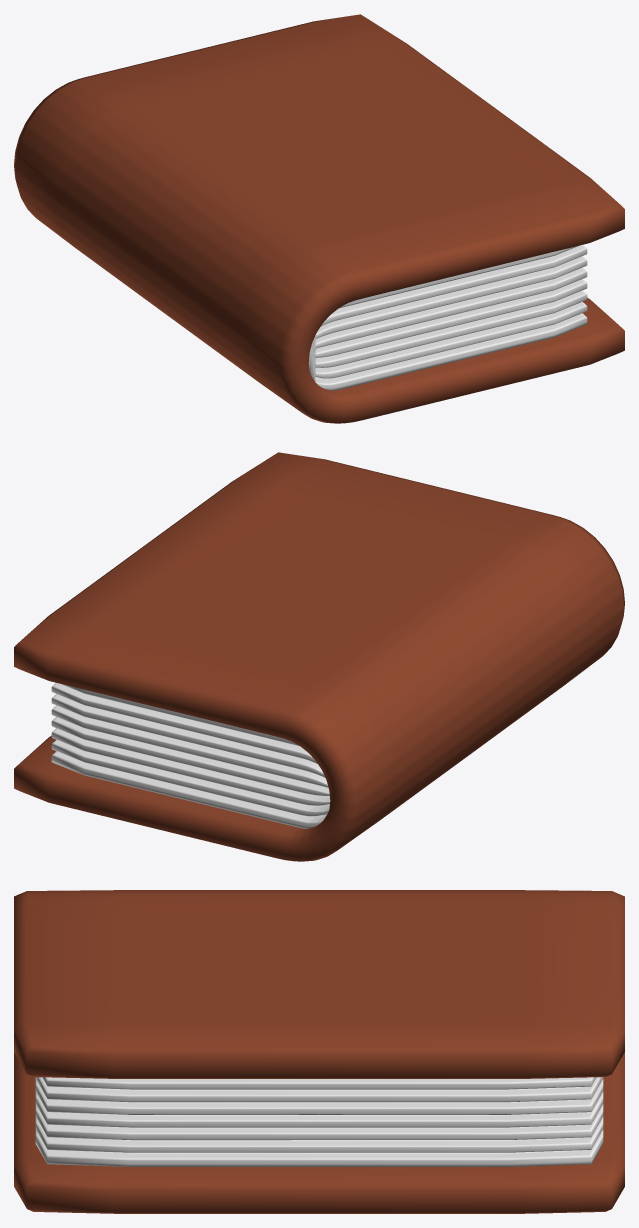
File: Book.glb
3 views of the same model, one above another, from view 1: azimuth 30°, elevation 25°; view 2: azimuth 150°, elevation 25°; view 3: azimuth 270°, elevation 25° (orthographic). The views are drawn at different scales.
Visible parts, largest first — view 1: Cylinder, Cylinder.001; view 2: Cylinder, Cylinder.001; view 3: Cylinder, Cylinder.001.
Boxes of the visible parts, x1,y1,x2,y2 form: Cylinder: [14, 14, 624, 423]; Cylinder.001: [308, 245, 587, 390]; Cylinder: [14, 452, 624, 861]; Cylinder.001: [51, 683, 330, 828]; Cylinder: [14, 890, 624, 1213]; Cylinder.001: [35, 1077, 603, 1166].
Bounding box in the file's own units: 0.3153 × 0.1302 × 0.4281.
